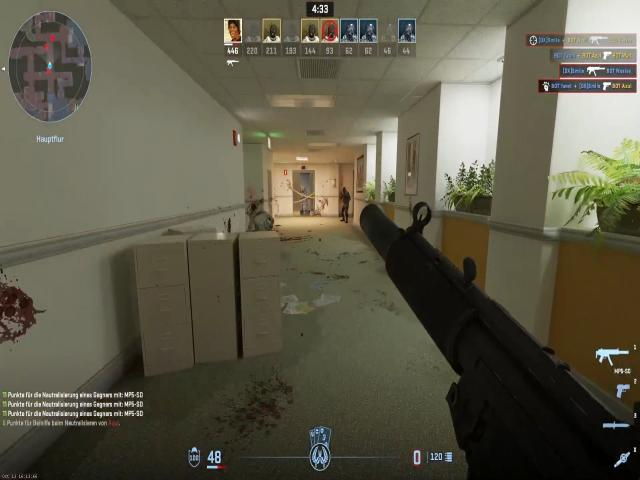Dead: (248, 202, 278, 230)
